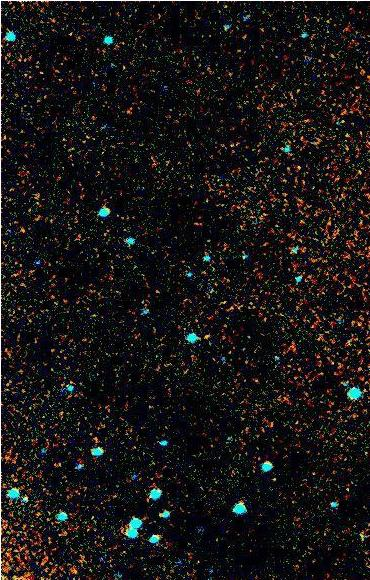star: (193, 322, 223, 352)
